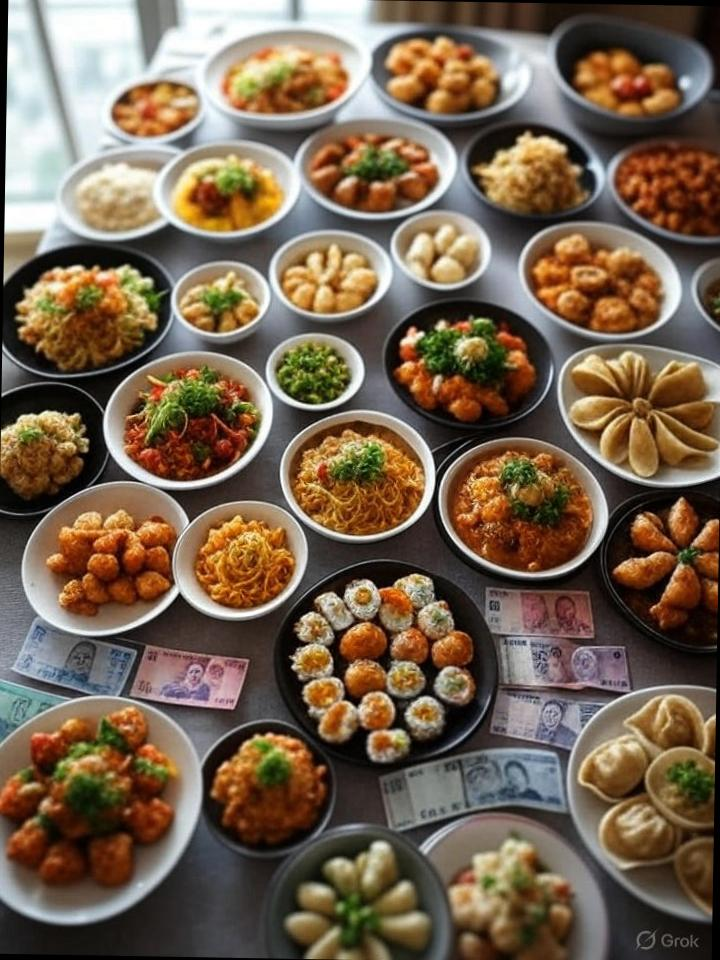reference_object: (492, 601, 618, 683)
sweet: (308, 618, 468, 738)
